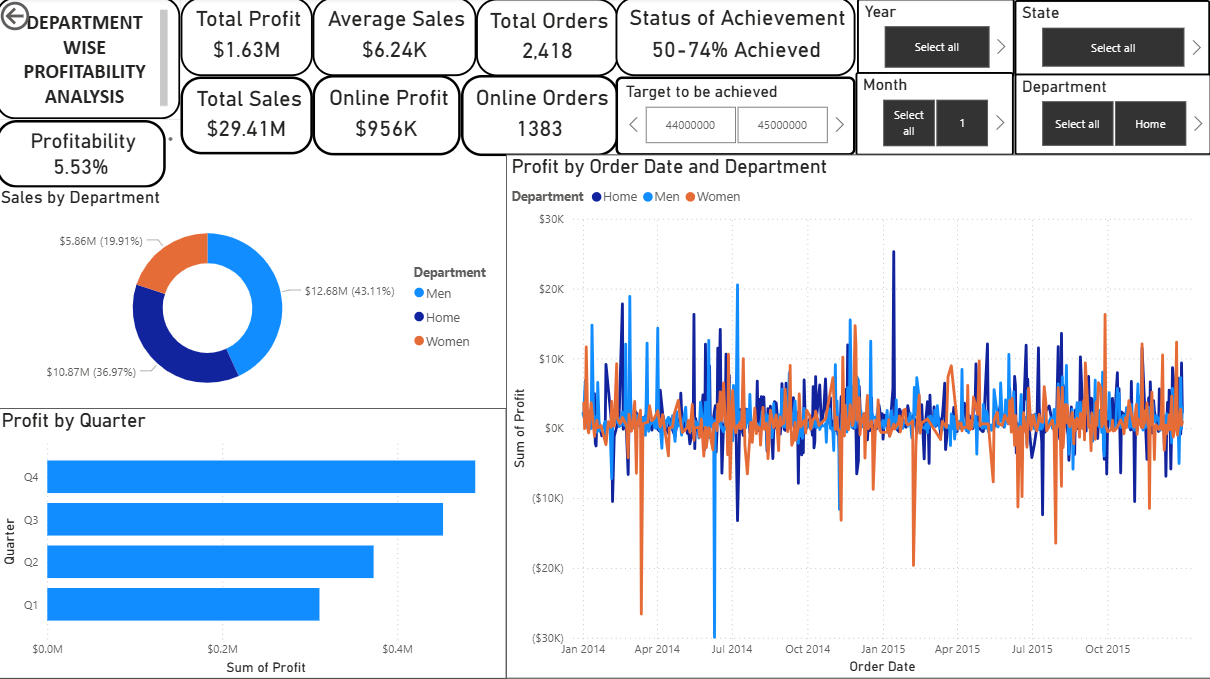

The dashboard page shown, as its layout file describes it:
{"tool":"powerbi","page":{"name":"Page 1","canvas":[1280,720],"ordinal":0},"visuals":[{"type":"textbox","box":[0,0,193.8,128.7],"z":0},{"type":"card","title":"Total Profit","fields":{"Values":["Sum(OrderDetails.Profit)"]},"box":[193.8,0,139.3,83.3],"z":1000},{"type":"card","title":"Average Sales","fields":{"Values":["Avg(OrderDetails.Sales)"]},"box":[333.1,0,172.6,83.3],"z":2000},{"type":"card","title":"Total Orders","fields":{"Values":["Count(OrderDetails.Order ID)"]},"box":[505.7,1.5,149.9,81.8],"z":3000},{"type":"card","title":"Total Sales","fields":{"Values":["Sum(OrderDetails.Sales)"]},"box":[193.8,83.3,139.3,81.8],"z":4000},{"type":"card","title":"Profitability","fields":{"Values":["OrderDetails.Profitability"]},"box":[0,129,178.4,71.4],"z":5000},{"type":"card","title":"Online Profit","fields":{"Values":["OrderDetails.Profit_Online_Sales"]},"box":[333.1,81.8,156,84.8],"z":6000},{"type":"card","title":"Online Orders","fields":{"Values":["OrderDetails.no.of.orders_Online_Sales"]},"box":[489.9,82.3,166.1,85.1],"z":7000},{"type":"slicer","title":"Target to be achieved","fields":{"Values":["Target to be achieved.Target to be achieved"]},"box":[652.6,83.3,252.9,83.3],"z":8000},{"type":"card","title":"Status of Achievement","fields":{"Values":["OrderDetails.StatusOfAchievement"]},"box":[652.6,0,252.9,83.3],"z":9000},{"type":"slicer","title":"Year","fields":{"Values":["ListofOrders.Year"]},"box":[905.7,1.4,166.1,82.3],"z":10000},{"type":"slicer","title":"State","fields":{"Values":["ListofOrders.State"]},"box":[1072.1,3,205.9,80.3],"z":11000},{"type":"donutChart","title":"Sales by Department","fields":{"Y":["Sum(OrderDetails.Sales)"],"Category":["OrderDetails.Department"]},"box":[0,199.9,537.5,233.2],"z":12000},{"type":"slicer","title":"Month","fields":{"Values":["OrderDetails.Month"]},"box":[905.5,78.7,166.6,87.8],"z":13000},{"type":"slicer","title":"Department","fields":{"Values":["OrderDetails.Department"]},"box":[1072.1,80.3,207.4,86.3],"z":14000},{"type":"barChart","title":"Profit by Quarter","fields":{"Y":["Sum(OrderDetails.Profit)"],"Category":["OrderDetails.Quarter"]},"box":[0,433.1,537.5,286.2],"z":15000},{"type":"lineChart","title":"Profit by Order Date and Department","fields":{"Y":["Sum(OrderDetails.Profit)"],"Series":["OrderDetails.Department"],"Category":["ListofOrders.Order Date"]},"box":[537.5,166.6,742,552.7],"z":16000},{"type":"actionButton","box":[0,0,100,40],"z":17000}]}

Visuals, with their boxes in screenshot pixels (x1, y1, x2, y2), scaled from the page's 1280x720 canvas onto the 1210x679 screenshot:
textbox: (left=0, top=0, right=183, bottom=121)
"Total Profit" card: (left=183, top=0, right=315, bottom=79)
"Average Sales" card: (left=315, top=0, right=478, bottom=79)
"Total Orders" card: (left=478, top=1, right=620, bottom=79)
"Total Sales" card: (left=183, top=79, right=315, bottom=156)
"Profitability" card: (left=0, top=122, right=169, bottom=189)
"Online Profit" card: (left=315, top=77, right=462, bottom=157)
"Online Orders" card: (left=463, top=78, right=620, bottom=158)
"Target to be achieved" slicer: (left=617, top=79, right=856, bottom=157)
"Status of Achievement" card: (left=617, top=0, right=856, bottom=79)
"Year" slicer: (left=856, top=1, right=1013, bottom=79)
"State" slicer: (left=1013, top=3, right=1208, bottom=79)
"Sales by Department" donutChart: (left=0, top=189, right=508, bottom=408)
"Month" slicer: (left=856, top=74, right=1013, bottom=157)
"Department" slicer: (left=1013, top=76, right=1209, bottom=157)
"Profit by Quarter" barChart: (left=0, top=408, right=508, bottom=678)
"Profit by Order Date and Department" lineChart: (left=508, top=157, right=1209, bottom=678)
actionButton: (left=0, top=0, right=95, bottom=38)
